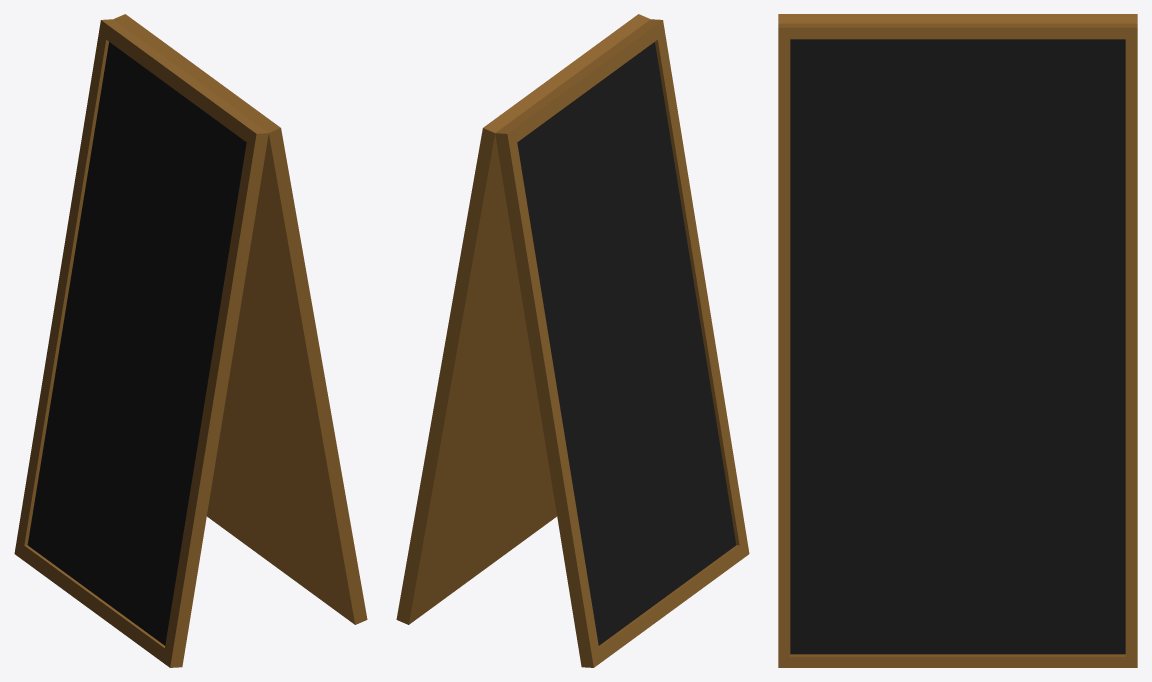
Rendered from Price_Desk.fbx.
3 renders of one model, left to right at view 1: azimuth 30°, elevation 25°; view 2: azimuth 150°, elevation 25°; view 3: azimuth 270°, elevation 25°, orthographic. The views are drawn at different scales.
Visible parts, largest first — view 1: Price_Desk; view 2: Price_Desk; view 3: Price_Desk.
Part boxes in pixels (x1,y1,x2,y2): Price_Desk: [14, 14, 367, 667]; Price_Desk: [396, 14, 749, 667]; Price_Desk: [778, 14, 1137, 667].
Bounding box in the file's own units: 47.58 × 119 × 65.
